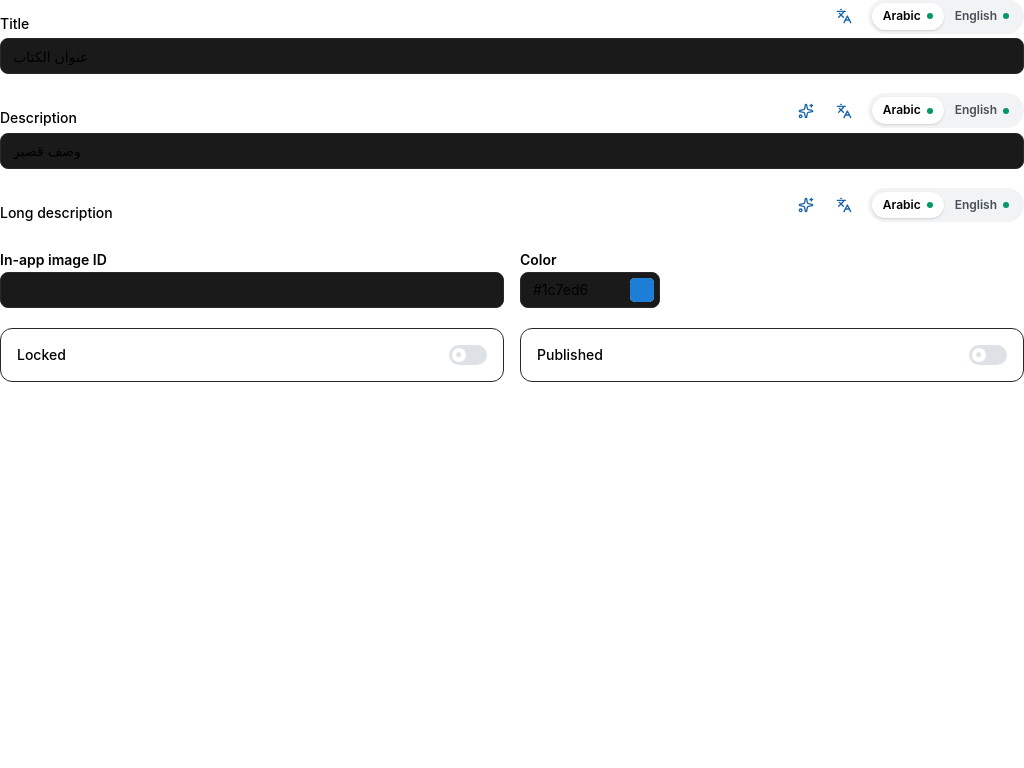
Test case: BookForm › Book field AI actions (ANA-100) › runs AI Assistance on the active English tab, sends English context and language: en, and applies the result to English only -- not Arabic (PR review regression
Title, Description, Long description, in that order.
Click the 2nd radio button labelled "English" at (982, 110), box [955,102,1009,117]
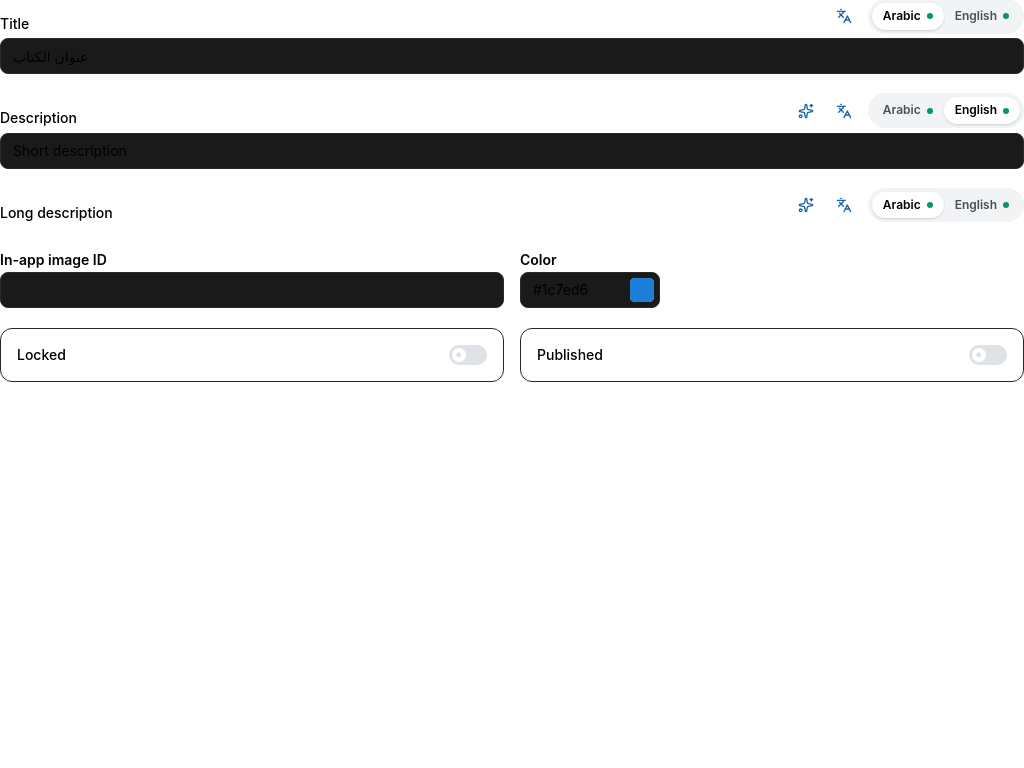
Click the button named "AI Assistance for Description" at (806, 111), box [792,97,820,125]
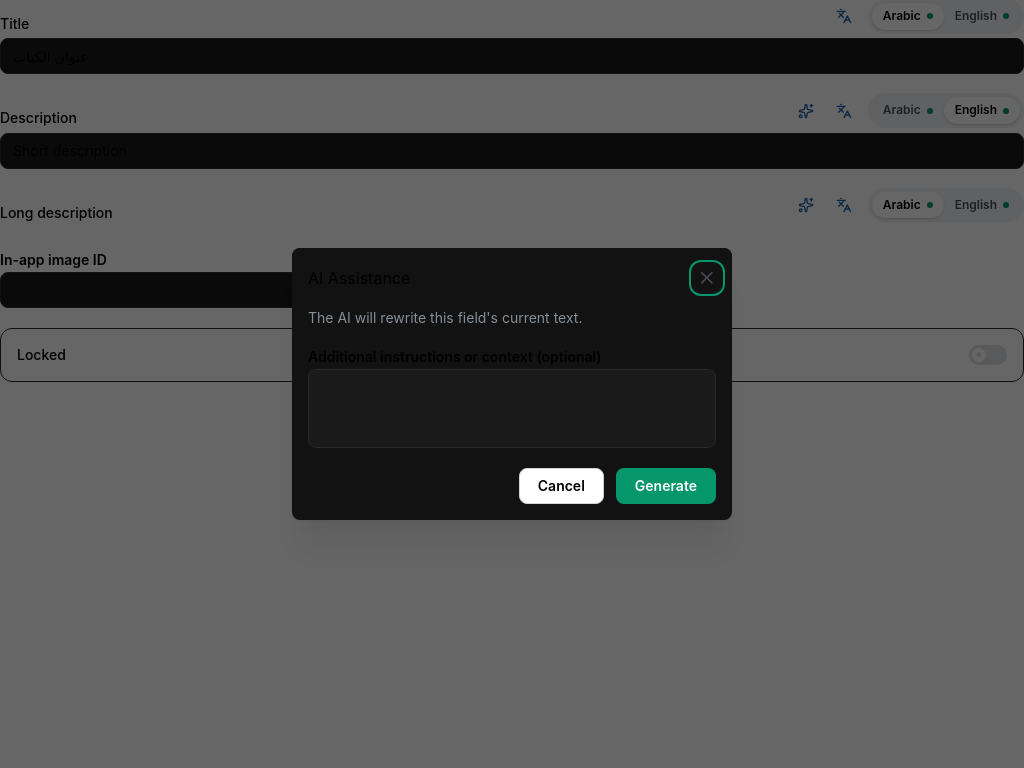
Click the button "Generate" at (666, 486), box [616,468,716,504]
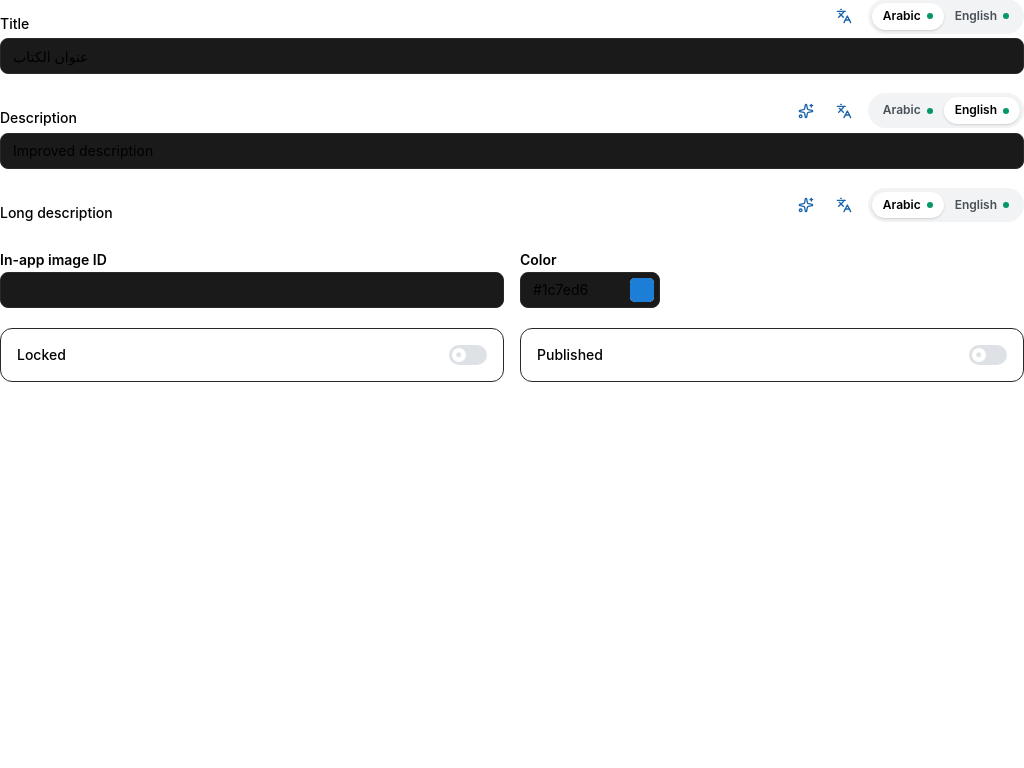
Result: the field showing "Improved description" is shown at [0,133,1023,169]
Click the 2nd radio button labelled "Arabic" at (908, 110), box [883,102,933,117]
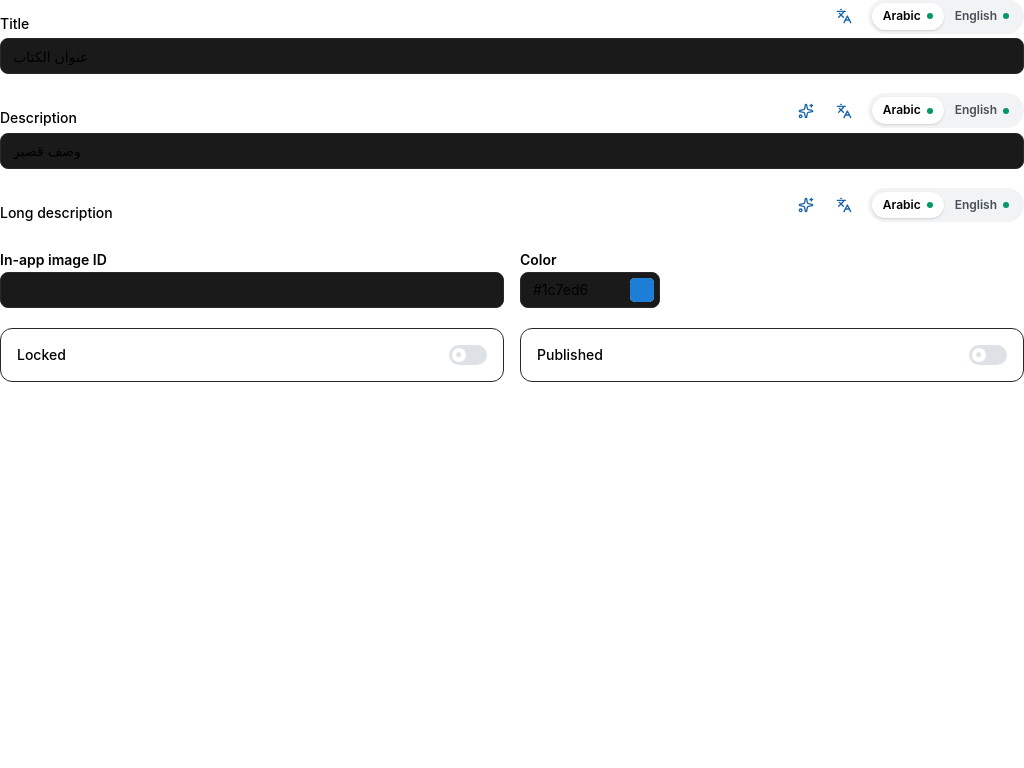
Result: the field showing "وصف قصير" is shown at [0,133,1023,169]
